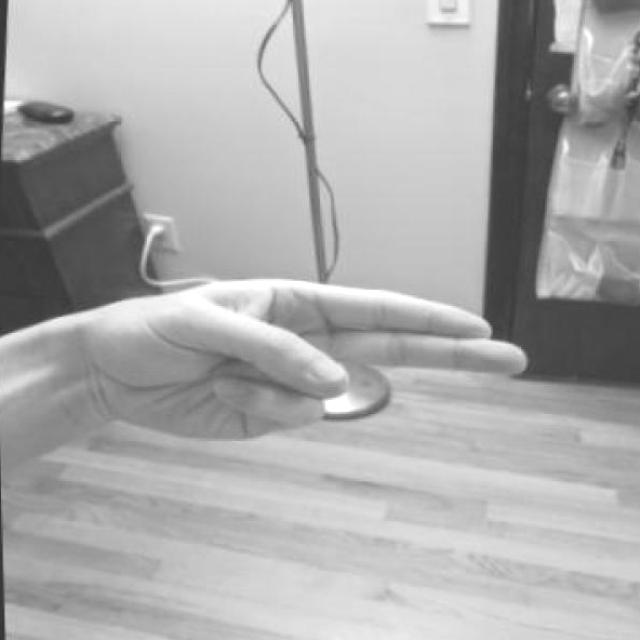H: (80, 256, 545, 464)
